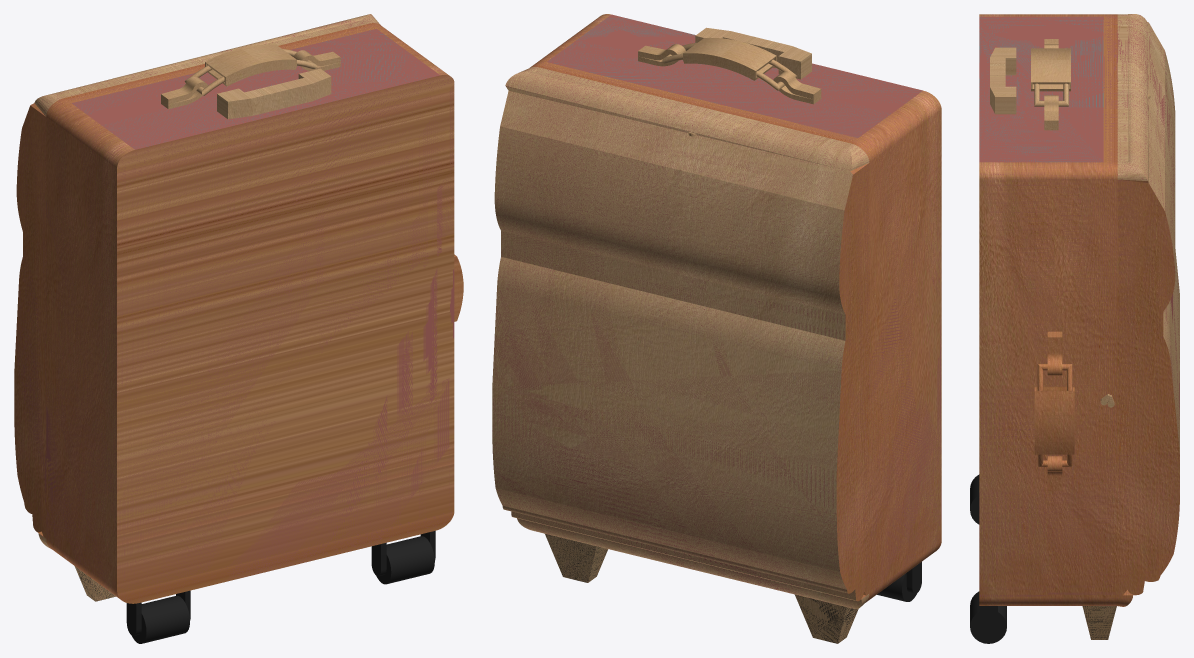
3 renders of one model, left to right at view 1: azimuth 30°, elevation 25°; view 2: azimuth 150°, elevation 25°; view 3: azimuth 270°, elevation 25°, orthographic. The views are drawn at different scales.
Visible parts, largest first — view 1: mesh53_mesh53-geometry, mesh50_mesh50-geometry, mesh14_mesh14-geometry, mesh16_mesh16-geometry, mesh18_mesh18-geometry, mesh24_mesh24-geometry; view 2: mesh53_mesh53-geometry, mesh14_mesh14-geometry, mesh50_mesh50-geometry, mesh12_mesh12-geometry, mesh18_mesh18-geometry, mesh24_mesh24-geometry; view 3: mesh53_mesh53-geometry, mesh7_mesh7-geometry, mesh50_mesh50-geometry, mesh14_mesh14-geometry, mesh1_mesh1-geometry, mesh2_mesh2-geometry, mesh24_mesh24-geometry, mesh4_mesh4-geometry.
Part boxes in pixels (bbox=[...]): mesh53_mesh53-geometry: bbox=[14, 14, 454, 603]; mesh50_mesh50-geometry: bbox=[126, 531, 435, 643]; mesh14_mesh14-geometry: bbox=[206, 45, 295, 77]; mesh16_mesh16-geometry: bbox=[224, 58, 296, 86]; mesh18_mesh18-geometry: bbox=[161, 77, 207, 109]; mesh24_mesh24-geometry: bbox=[293, 50, 340, 71]; mesh53_mesh53-geometry: bbox=[492, 14, 941, 643]; mesh14_mesh14-geometry: bbox=[684, 38, 775, 71]; mesh50_mesh50-geometry: bbox=[877, 562, 921, 601]; mesh12_mesh12-geometry: bbox=[683, 52, 756, 80]; mesh18_mesh18-geometry: bbox=[773, 71, 821, 104]; mesh24_mesh24-geometry: bbox=[638, 44, 685, 66]; mesh53_mesh53-geometry: bbox=[979, 14, 1179, 639]; mesh7_mesh7-geometry: bbox=[1034, 386, 1074, 454]; mesh50_mesh50-geometry: bbox=[970, 474, 1006, 643]; mesh14_mesh14-geometry: bbox=[1032, 48, 1069, 84]; mesh1_mesh1-geometry: bbox=[1047, 331, 1062, 375]; mesh2_mesh2-geometry: bbox=[1047, 456, 1062, 490]; mesh24_mesh24-geometry: bbox=[1044, 95, 1058, 130]; mesh4_mesh4-geometry: bbox=[1037, 364, 1047, 466].
Bounding box in the file's own units: 0.5716 × 0.7699 × 0.2838.
